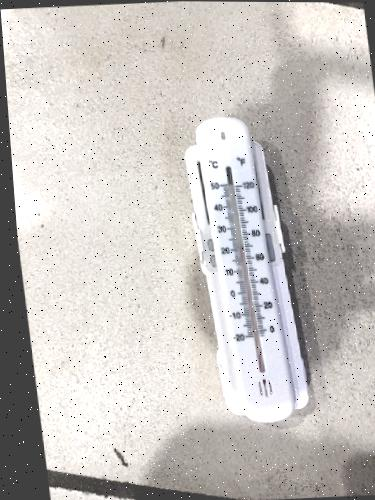thermo: (192, 114, 297, 428)
